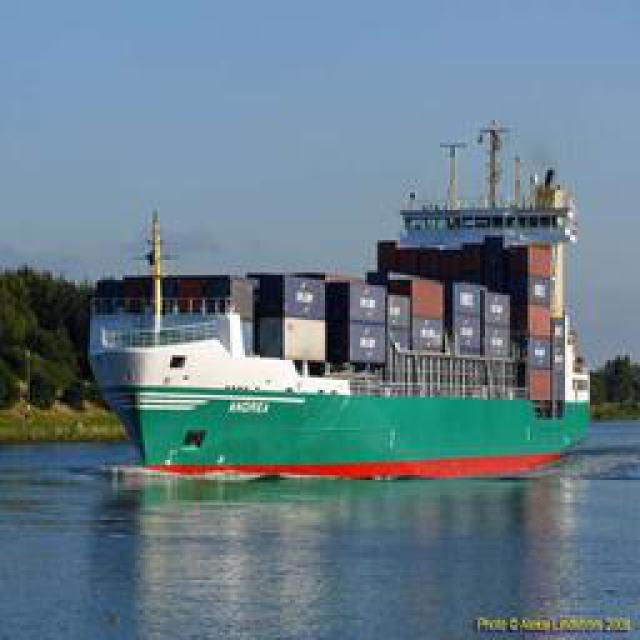Ship: (94, 122, 584, 475)
